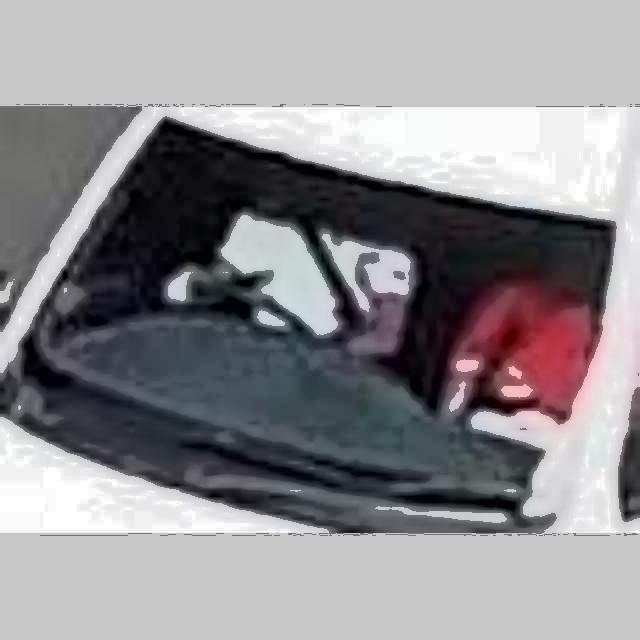pakai: (202, 186, 387, 393)
tidak-pakai: (455, 259, 595, 410)
